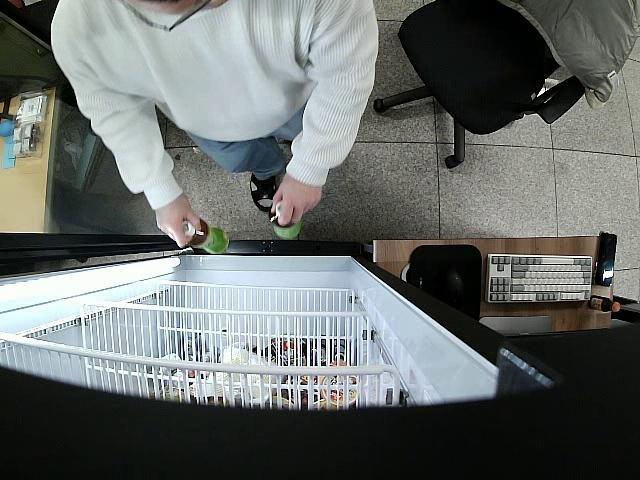19_17cha: (182, 218, 230, 258), (270, 202, 302, 242)
